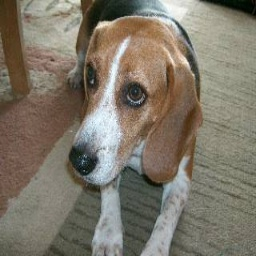dog: (65, 0, 205, 254)
